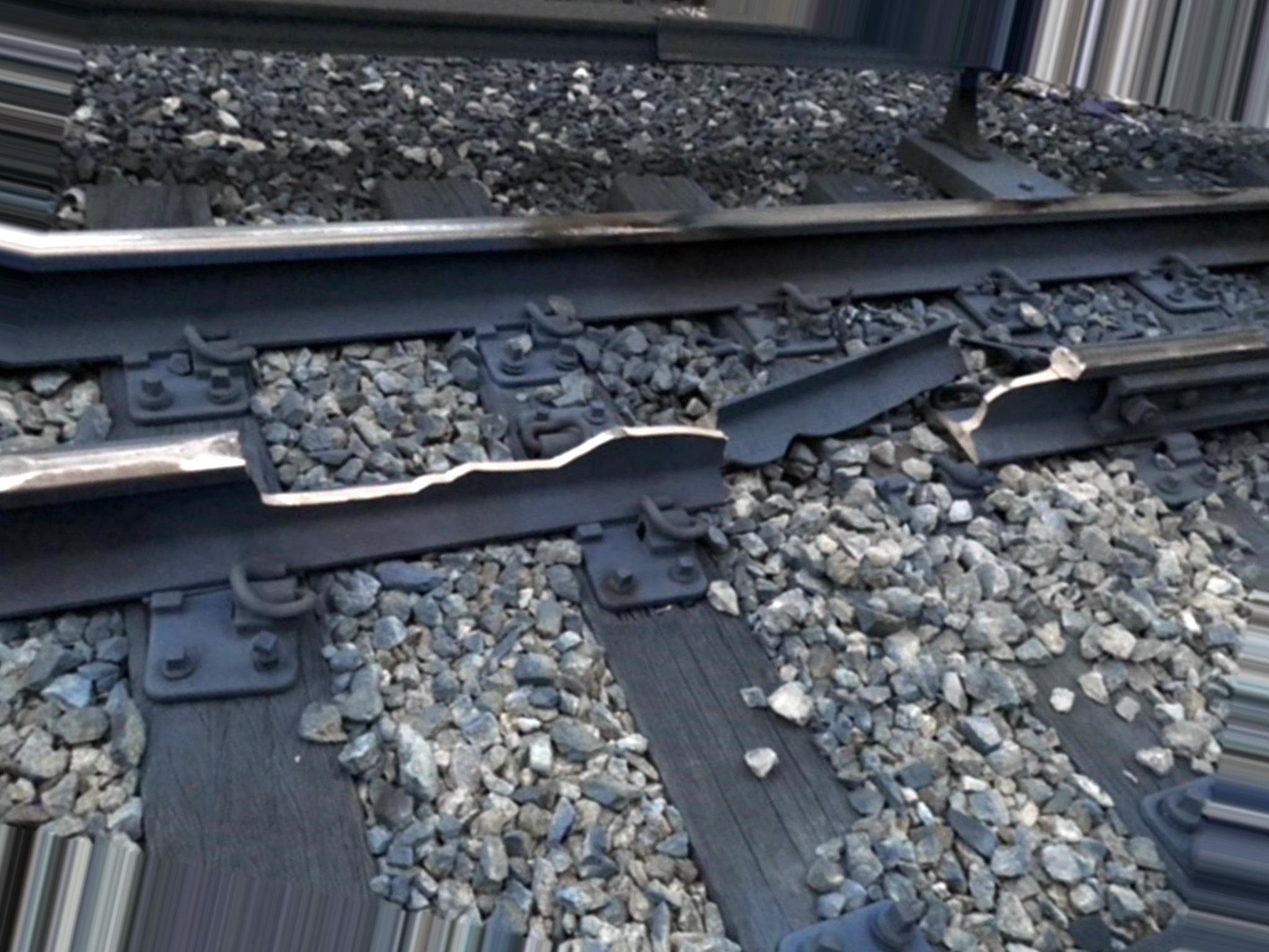tracks_fault: (178, 300, 1142, 539)
